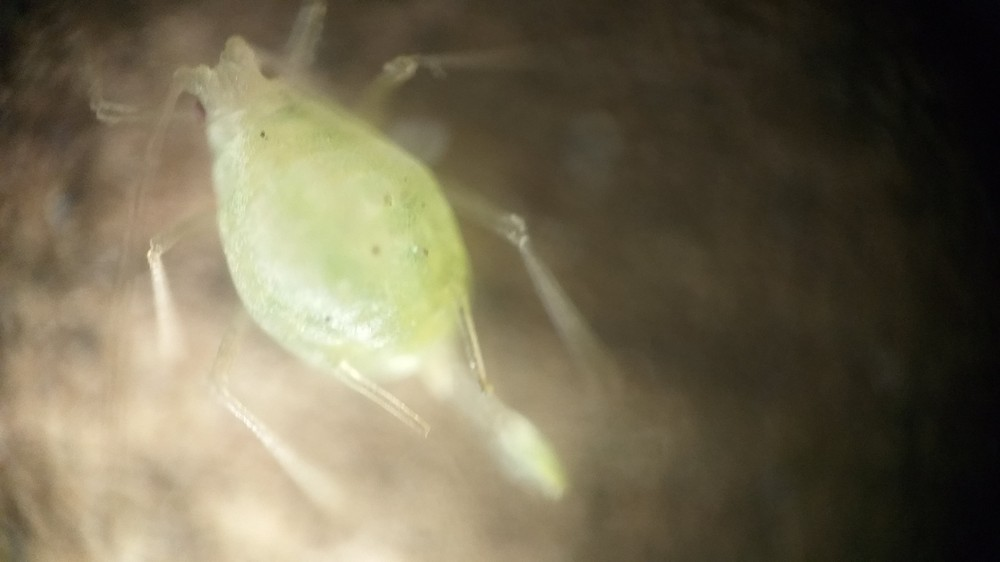Pulgon: (59, 16, 658, 513)
